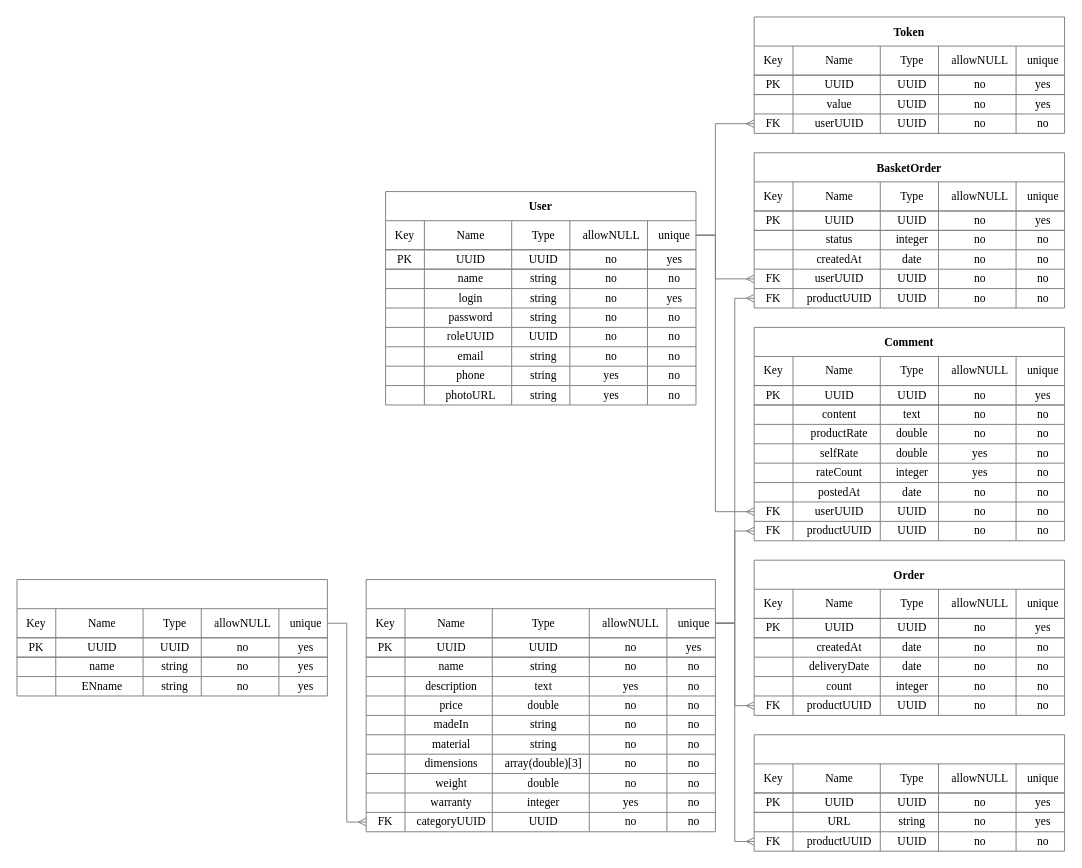
Some shapes in this 1082 by 868 pixel diagram are drawn without their labels. The shapes that lost their labels are listed below. From the top down, each one's box as (x1, y1, x2, y2) in pixels, then its label:
(16, 579, 327, 696): Category
(365, 579, 715, 832): Product
(753, 734, 1065, 851): ProductPhoto
